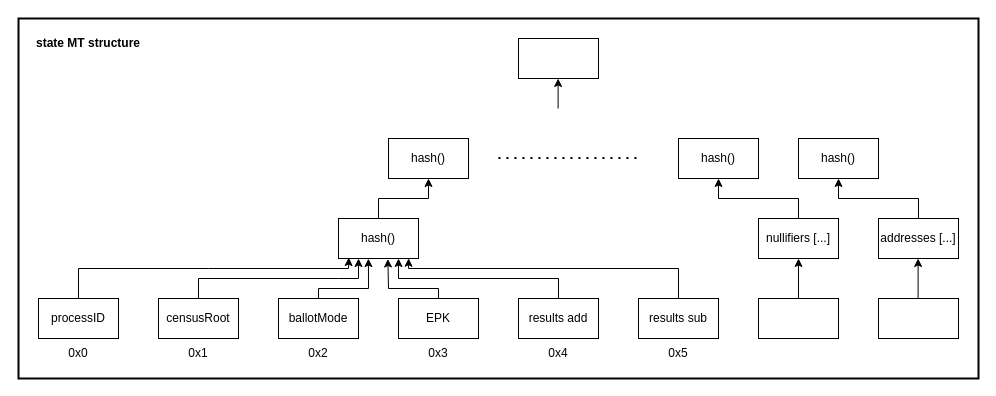
The diagram is 996 pixels wide and 396 high, and some of its shapes have lost their labels. The centre of each missing label's shape, as x and y in pixels:
commitments [...]: pixel 918 318
encrypted ballots [...]: pixel 798 318
root: pixel 558 58
